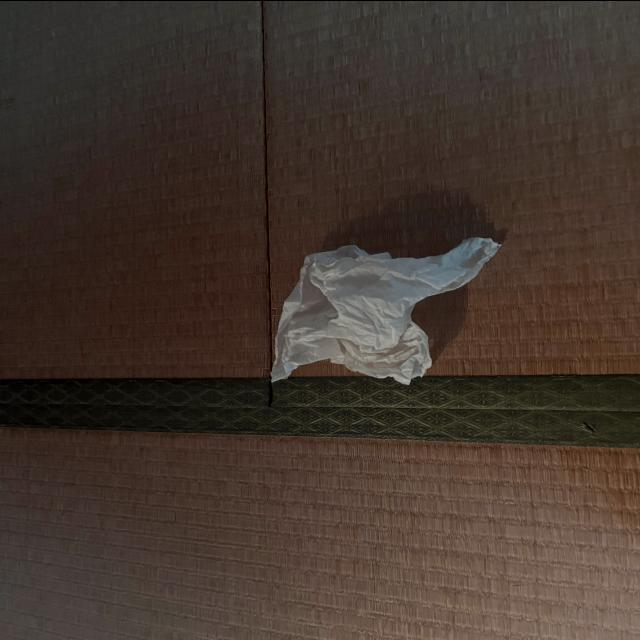Paper: (259, 226, 503, 404)
